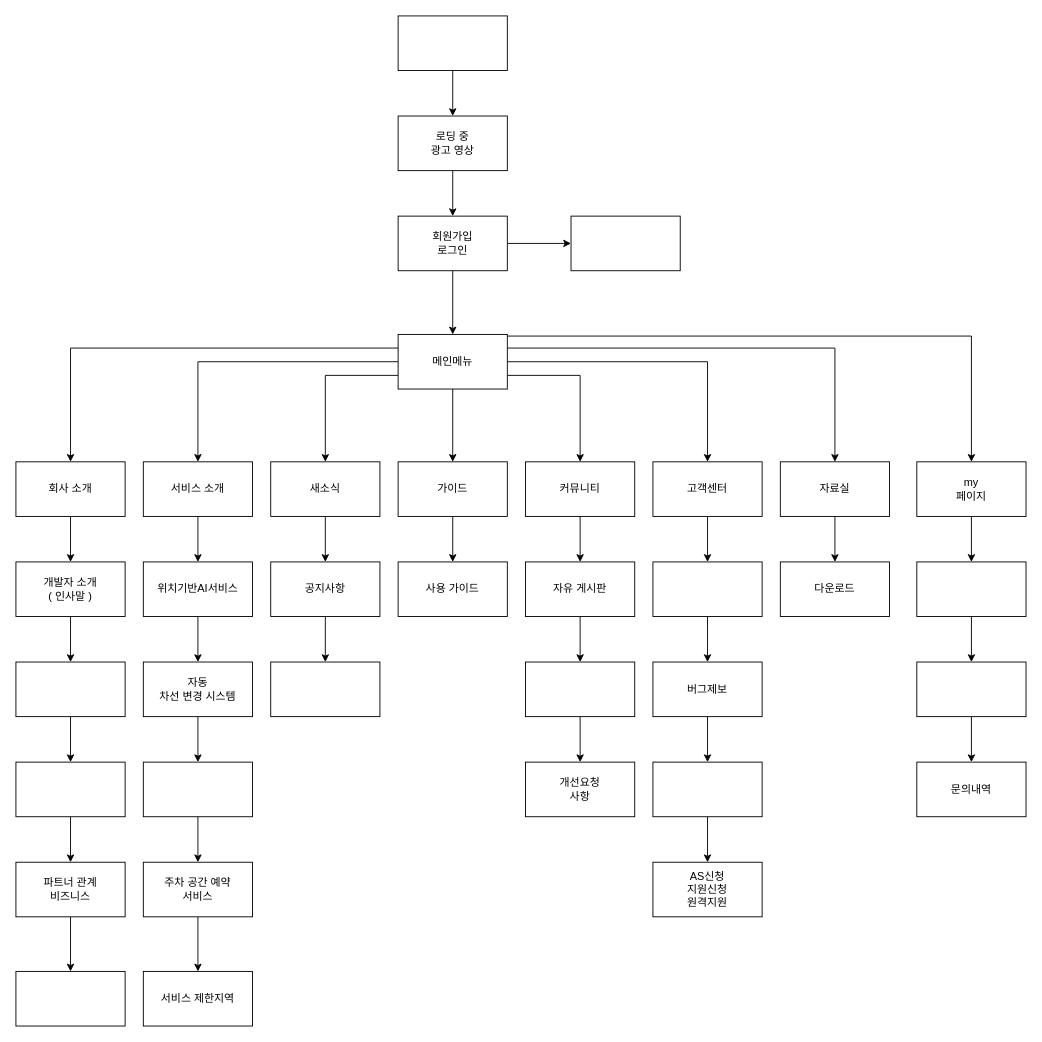
Image size: 1042x1042. Some labels were removed from this diagram. The box of each missing label's shape, as (x1, y1, x2, y2) in pixels:
개인이용정보 동의서: (570, 215, 680, 271)
버그제보 확인: (652, 761, 762, 817)
보안센터: (652, 561, 762, 617)
사용자: (397, 15, 507, 71)
업데이트 소식: (270, 661, 380, 717)
이용내역: (916, 661, 1026, 717)
자동 주차 서비스: (142, 761, 253, 817)
조직도: (15, 971, 125, 1026)
즐겨찾기: (916, 561, 1026, 617)
지역 게시판: (525, 661, 635, 717)
찾아오시는 길: (15, 761, 125, 817)
프로그램 소개: (15, 661, 125, 717)
